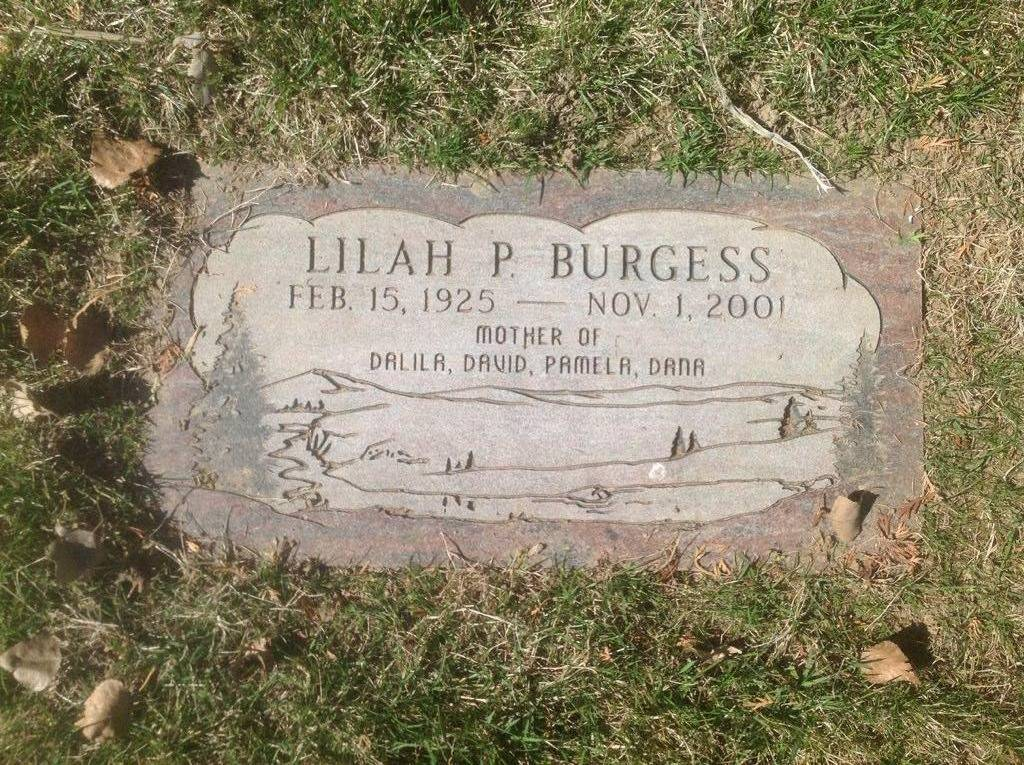flat: (119, 134, 956, 610)
